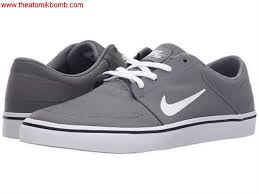nike: (152, 76, 208, 125)
